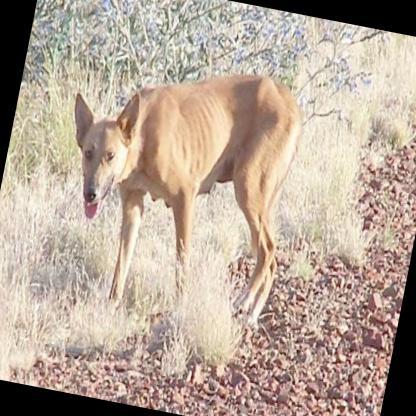dingo: (36, 40, 311, 346)
